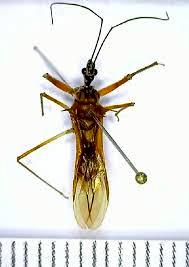Helopeltis-insect: (68, 82, 115, 231)
